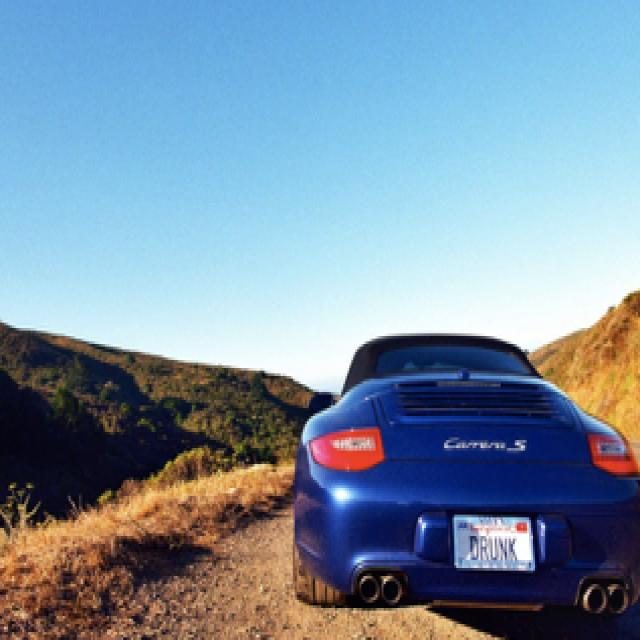license_plate: (456, 515, 537, 573)
